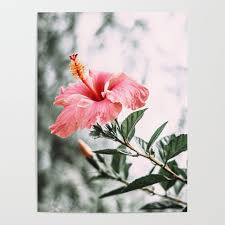hybiscus: (53, 50, 151, 141)
